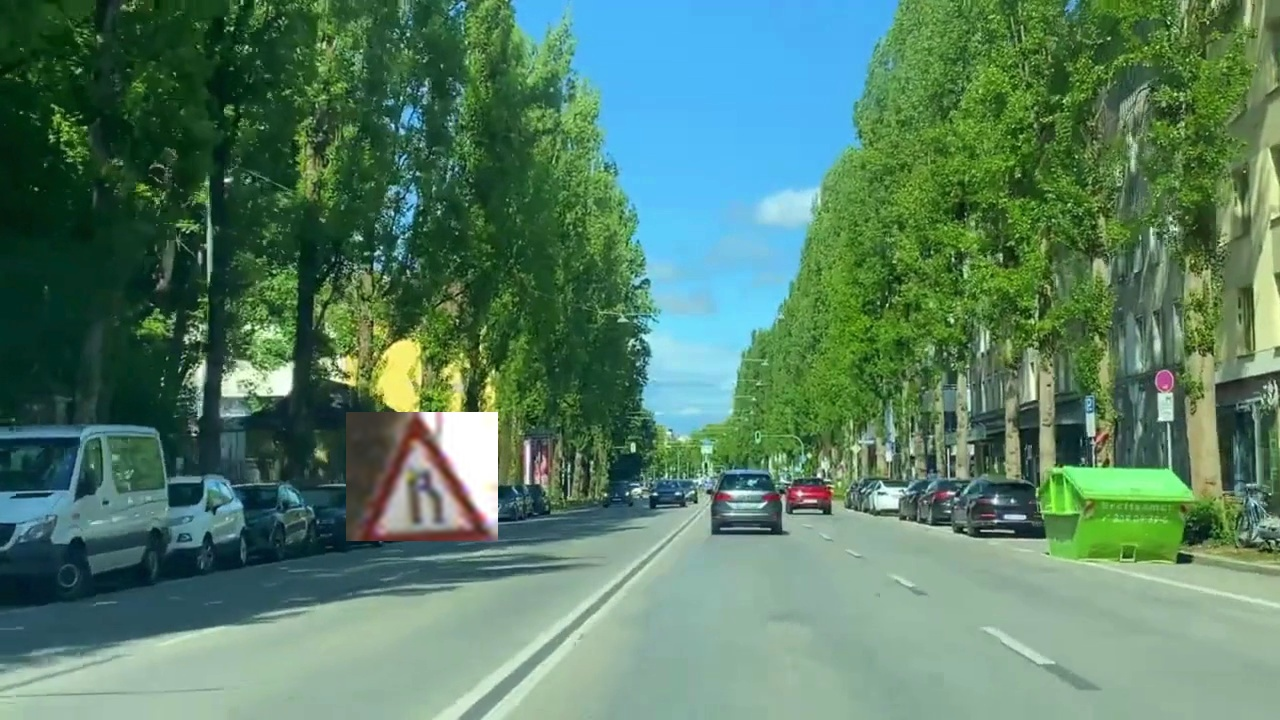Road narrows: (346, 412, 498, 541)
